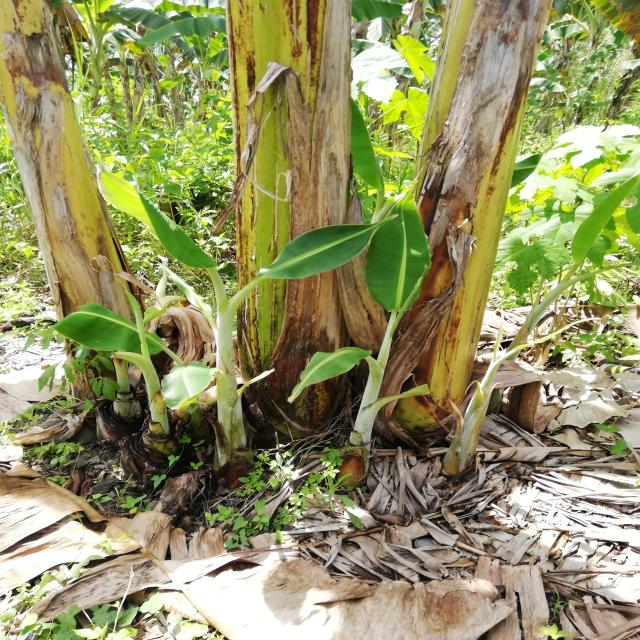Banana-plant: (363, 0, 554, 446), (0, 0, 170, 427), (231, 0, 352, 431)
